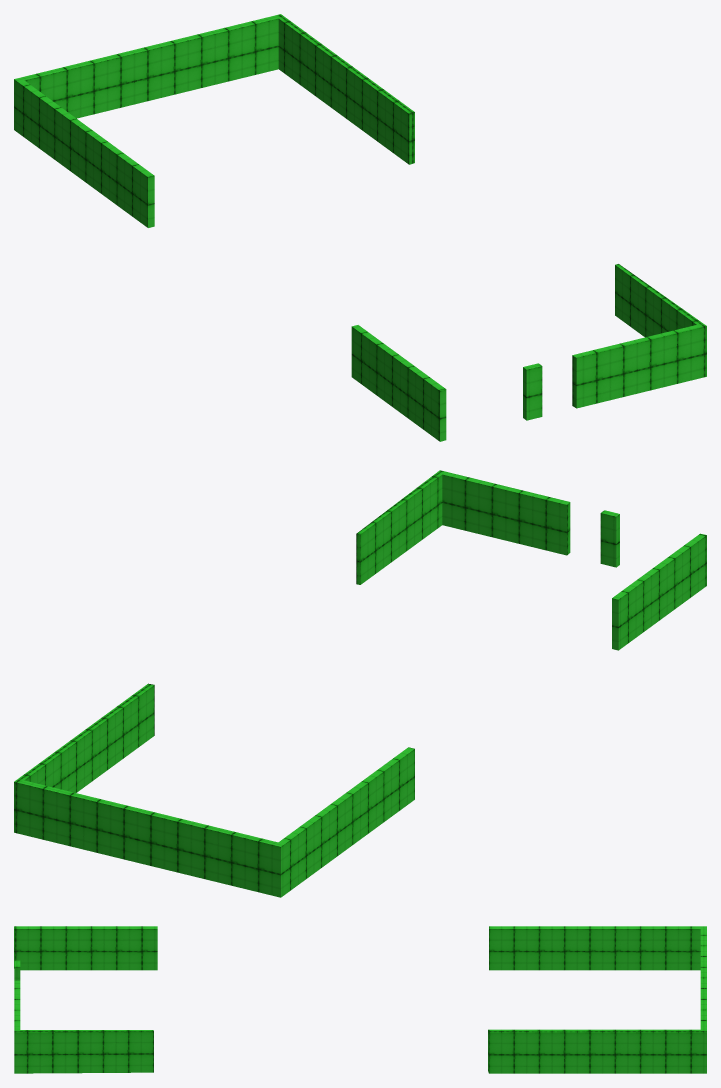
Rendered from Casa_EXTERIOR_seto_exterior.fbx.
3 renders of one model, top to bottom at view 1: azimuth 30°, elevation 25°; view 2: azimuth 150°, elevation 25°; view 3: azimuth 270°, elevation 25°, orthographic. The views are drawn at different scales.
Parts seen in each view (by area): view 1: Casa_EXTERIOR_seto_exterior; view 2: Casa_EXTERIOR_seto_exterior; view 3: Casa_EXTERIOR_seto_exterior.
Boxes of the visible parts, x1,y1,x2,y2 form: Casa_EXTERIOR_seto_exterior: (14, 14, 706, 441); Casa_EXTERIOR_seto_exterior: (14, 470, 706, 897); Casa_EXTERIOR_seto_exterior: (14, 926, 706, 1073).
Size of the model in its own units: 9.92 by 1.8 by 27.42.
